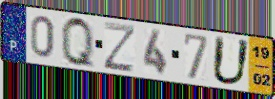0: (28, 14, 58, 61)
4: (142, 28, 169, 77)
7: (182, 32, 210, 83)
Q: (60, 14, 97, 72)
U: (210, 34, 253, 87)
Z: (102, 21, 138, 75)
